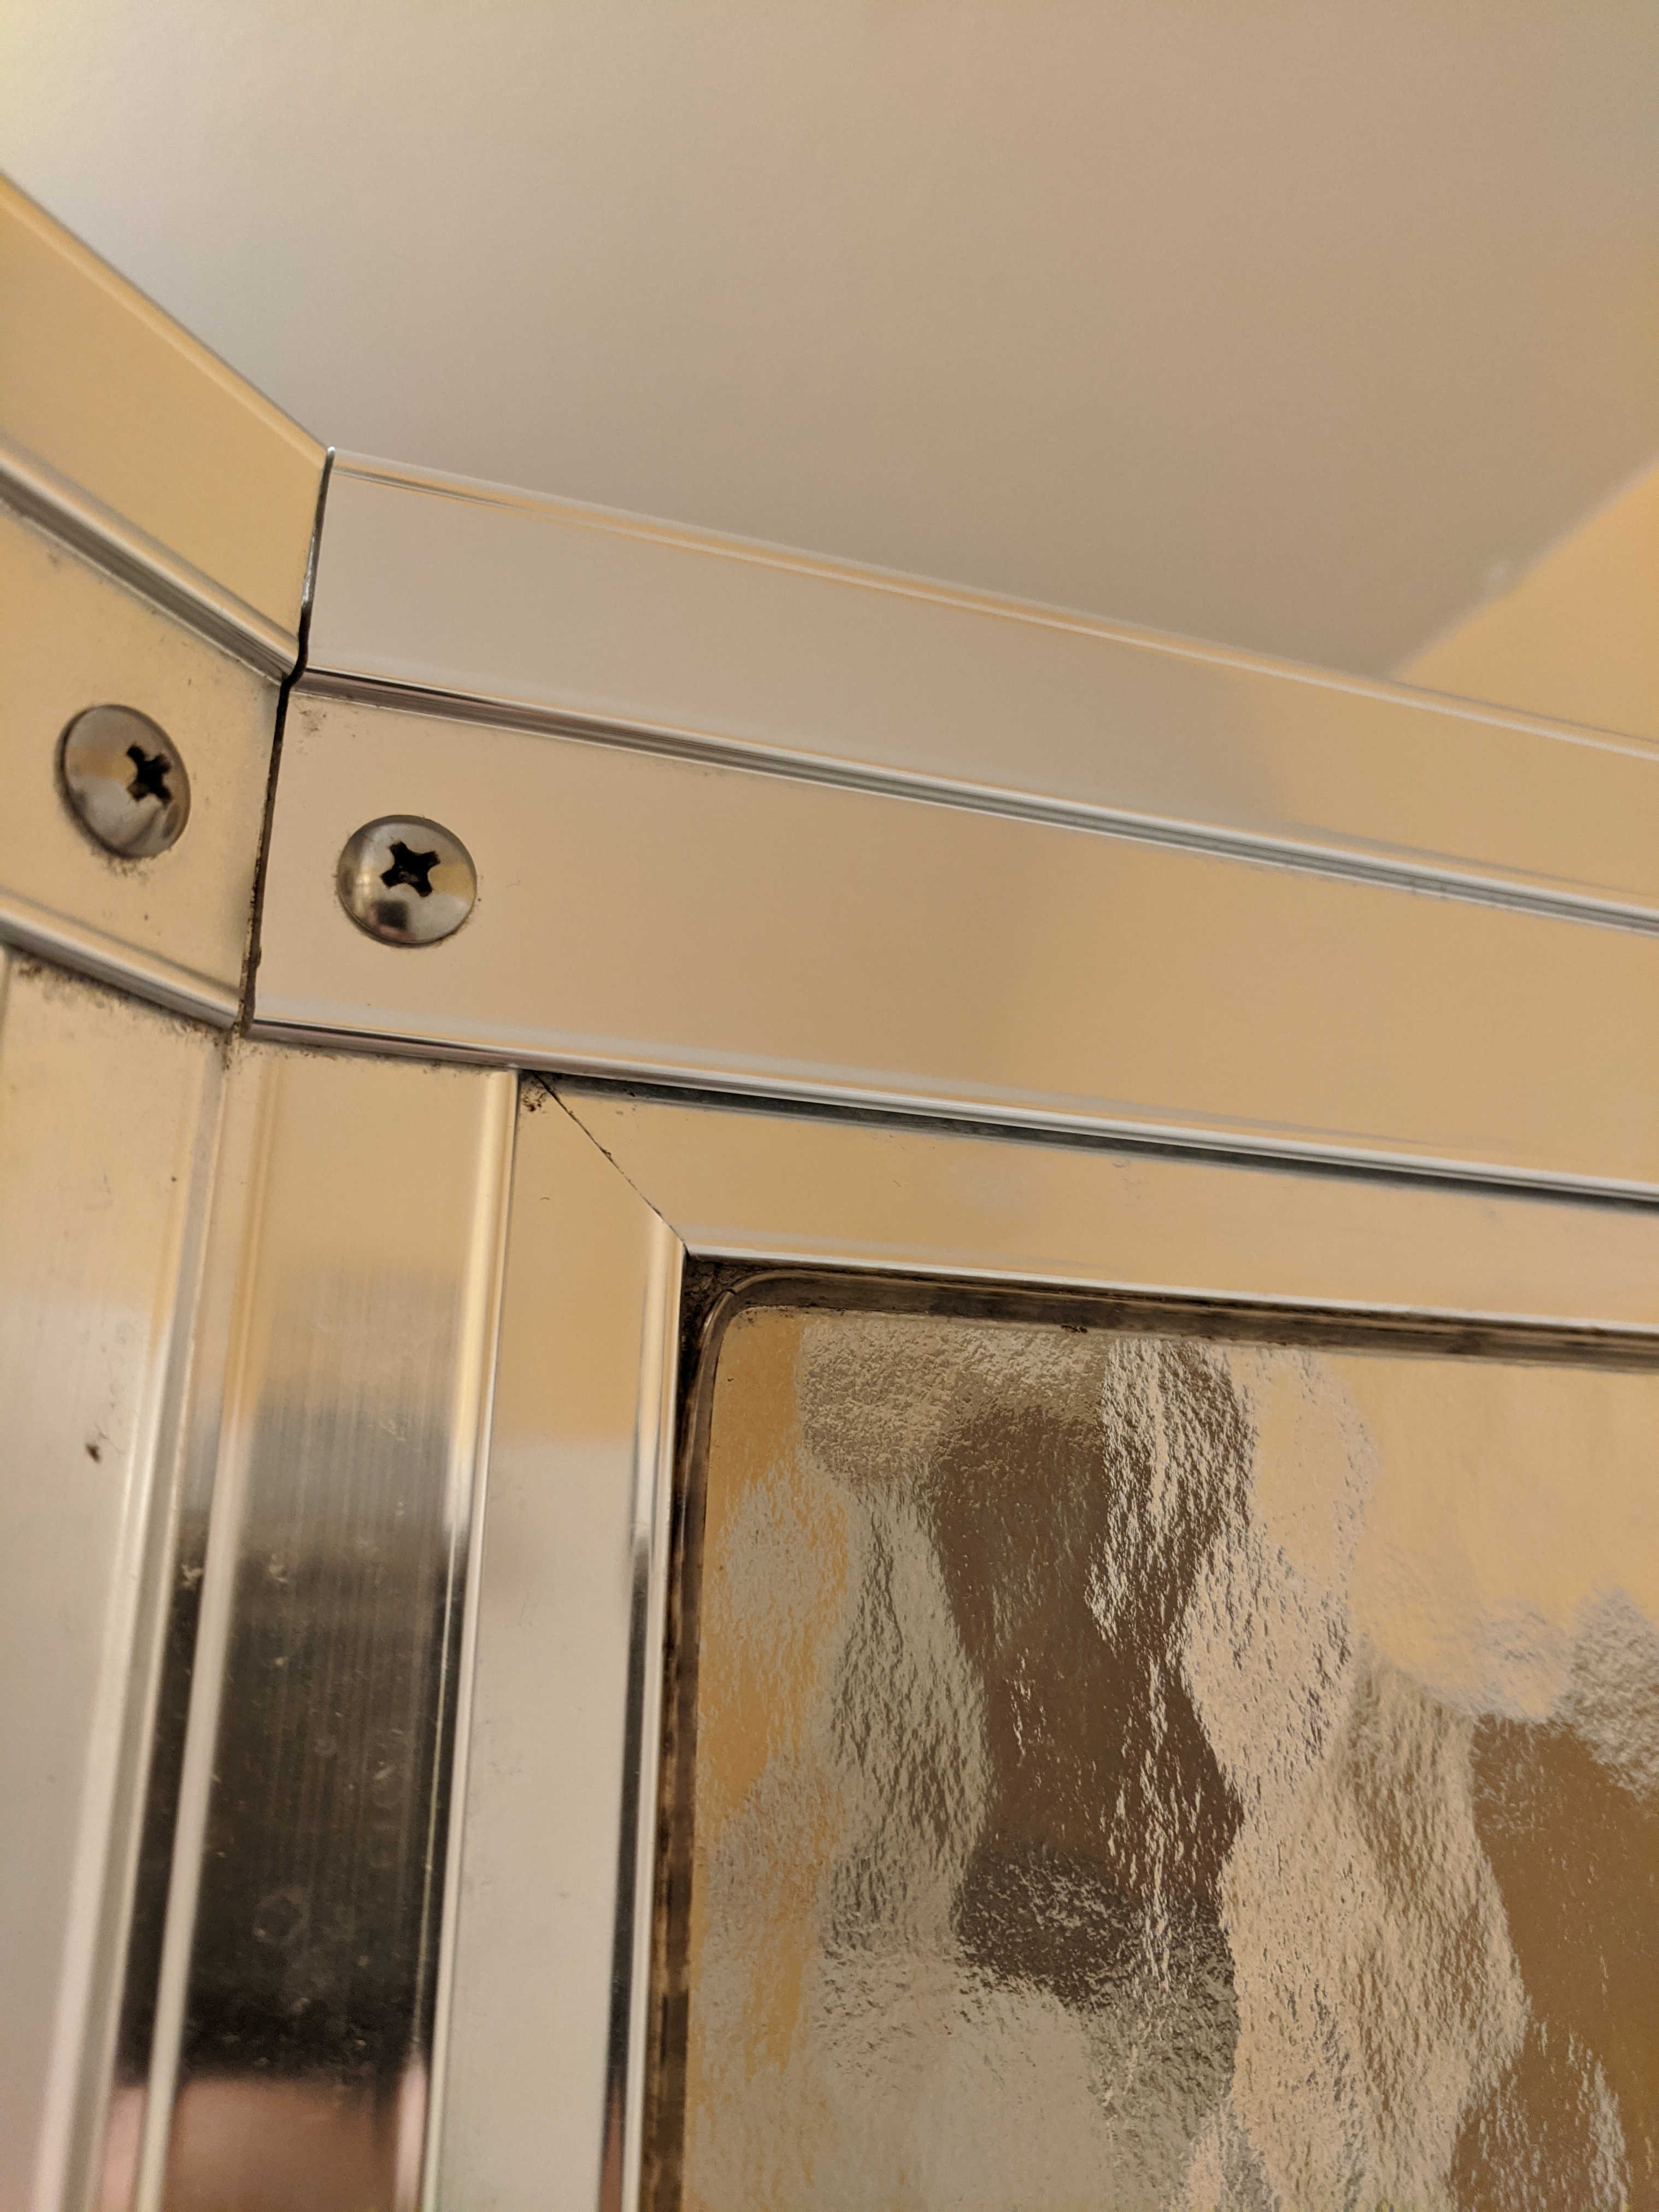cross_recessed_screw: (51, 685, 199, 850), (336, 799, 479, 939)
